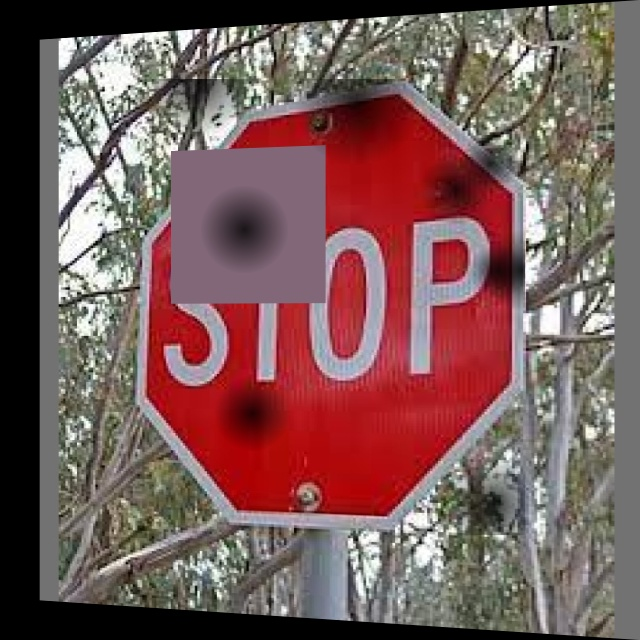Stop: (141, 79, 525, 535)
